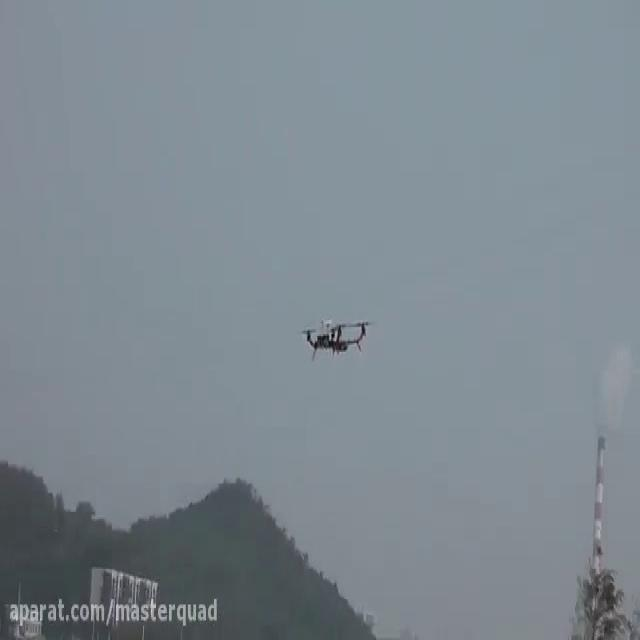drone: (292, 311, 377, 366)
